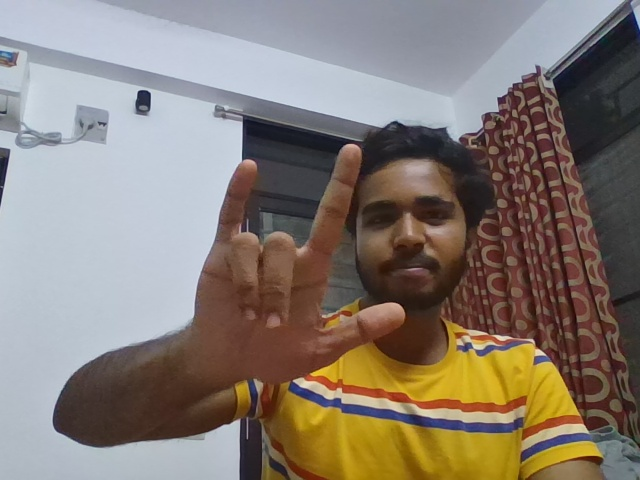I Love You: (182, 134, 414, 397)
